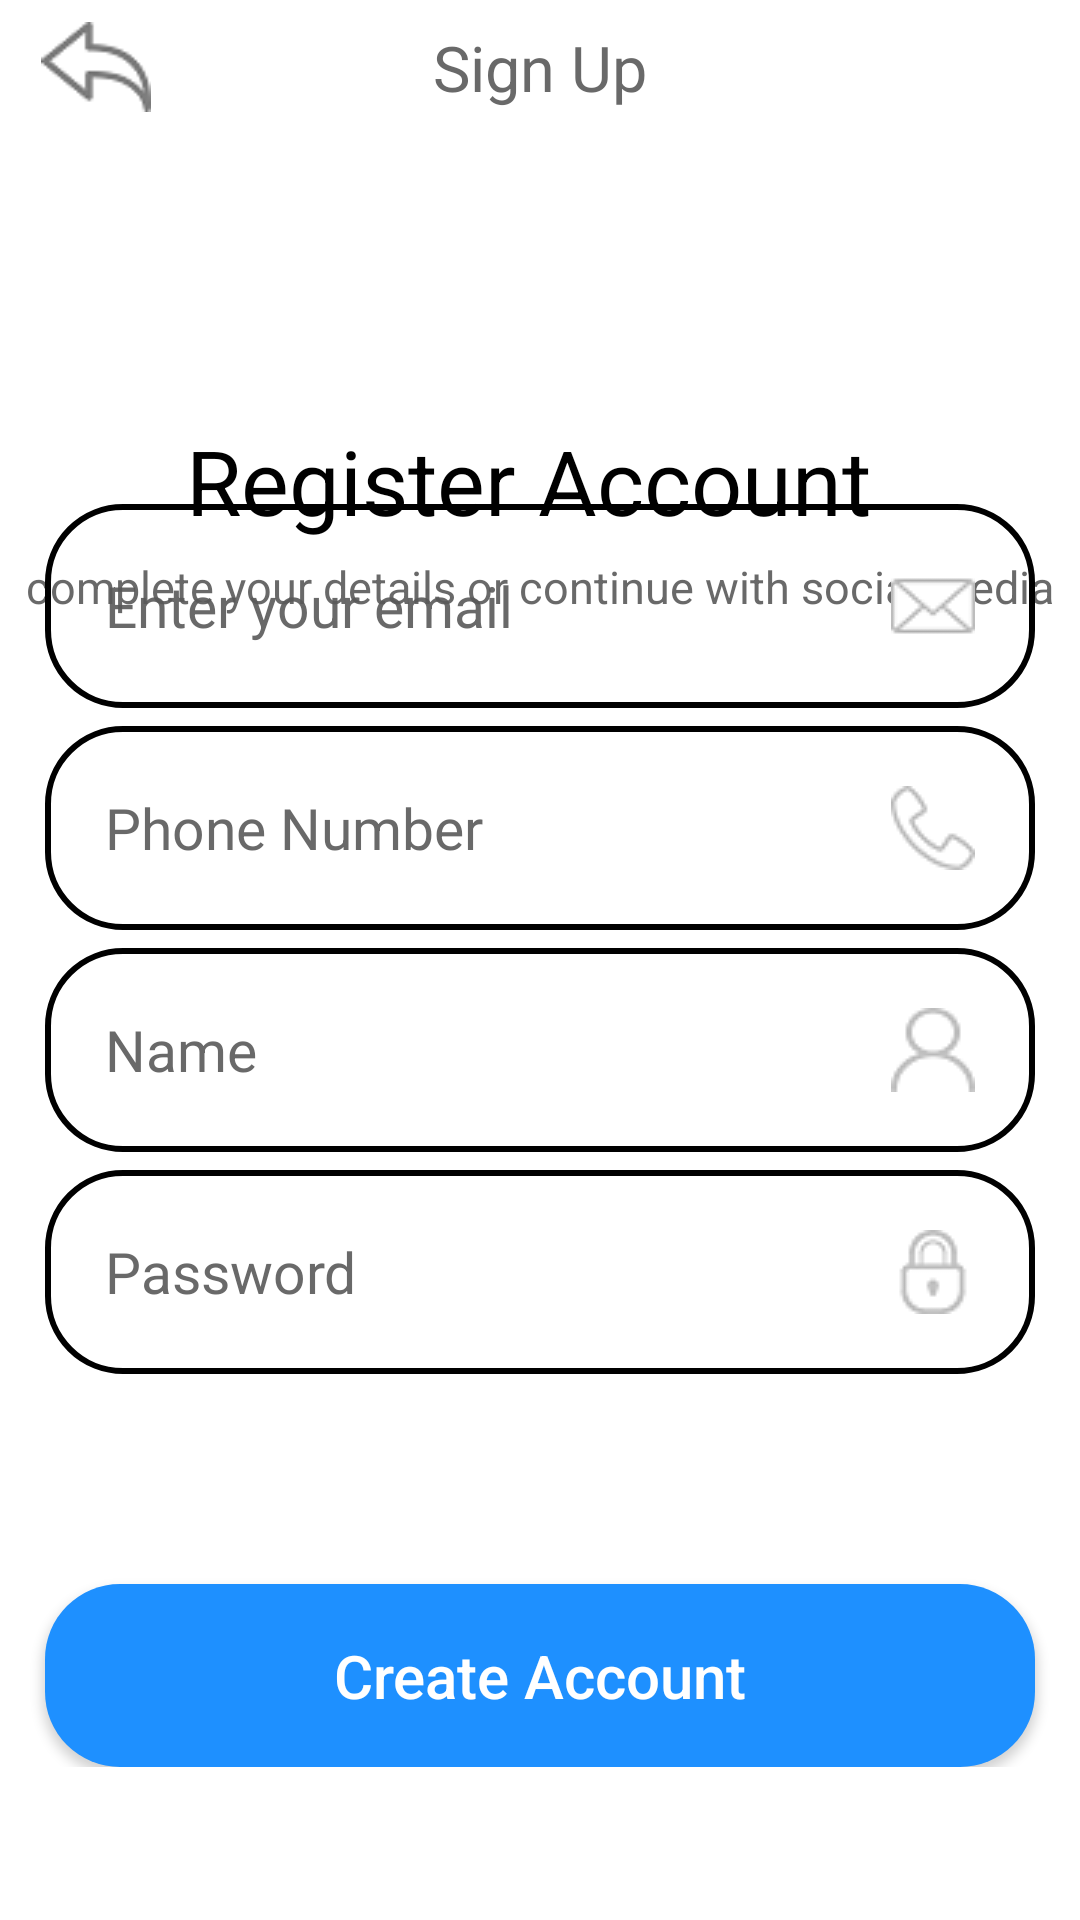

Icon bounding boxes for this 1080 x 1920 phone screenshot, format (x1, y1, x2, y2):
back: (41, 22, 151, 112)
